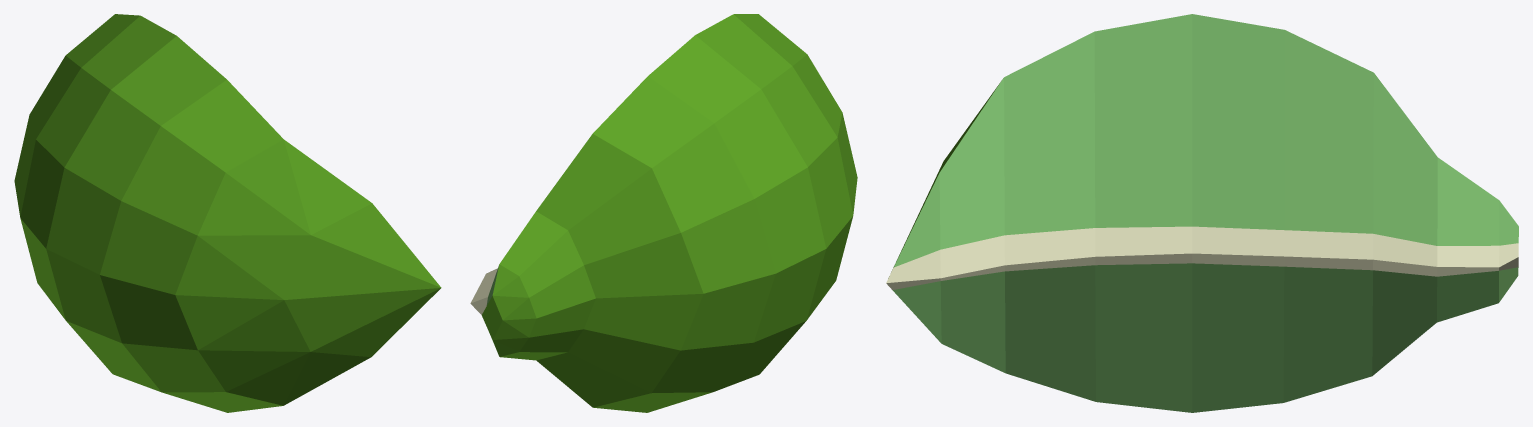
File: Lime Slice.fbx
The picture shows the model from 3 angles, left to right: view 1: azimuth 30°, elevation 25°; view 2: azimuth 150°, elevation 25°; view 3: azimuth 270°, elevation 25°; orthographic projection. The views are drawn at different scales.
Parts seen in each view (by area): view 1: Lime Slice; view 2: Lime Slice; view 3: Lime Slice.
Part boxes in pixels (x1,y1,x2,y2): Lime Slice: (14,14,441,412); Lime Slice: (470,14,857,412); Lime Slice: (886,14,1518,412).
Bounding box in the file's own units: 4.01 × 5.37 × 7.73.
